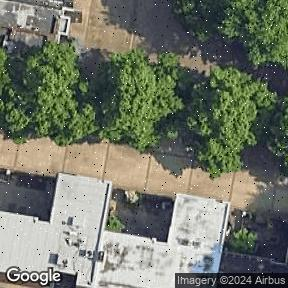vegetation: (227, 229, 266, 256), (105, 212, 134, 238)
